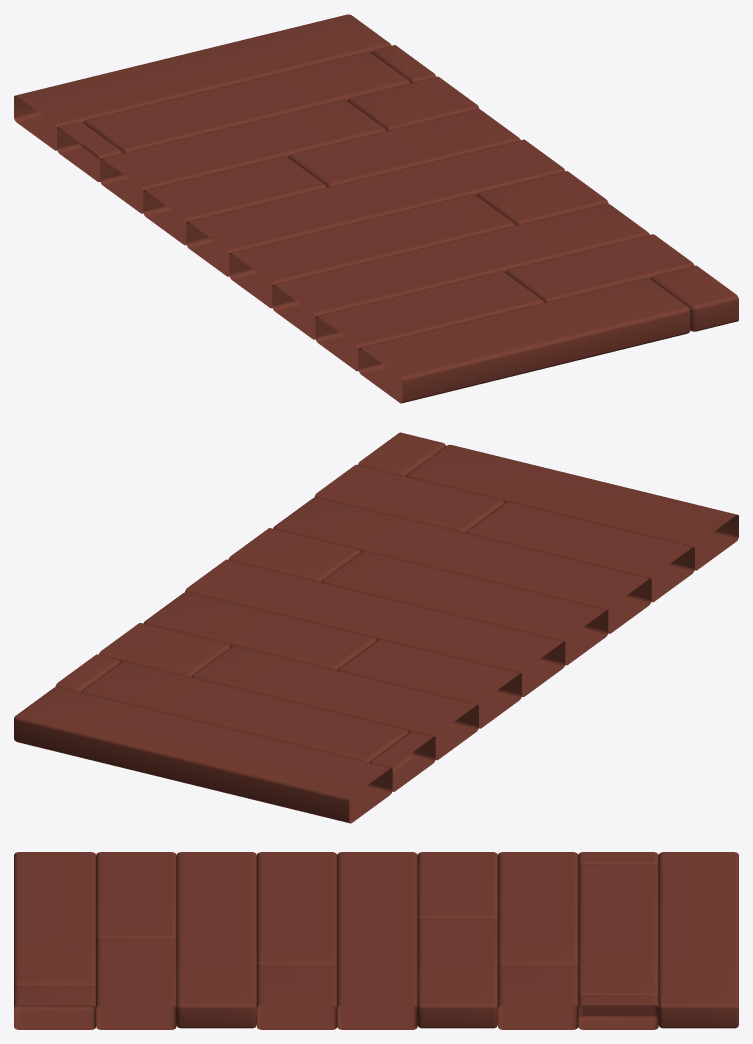
Rendered from SM_Ground_Wood_04.fbx.
3 renders of one model, top to bottom at view 1: azimuth 30°, elevation 25°; view 2: azimuth 150°, elevation 25°; view 3: azimuth 270°, elevation 25°, orthographic. The views are drawn at different scales.
Visible parts, largest first — view 1: Plane.020; view 2: Plane.020; view 3: Plane.020.
Part boxes in pixels (x1,y1,x2,y2): Plane.020: [14, 14, 738, 403]; Plane.020: [14, 432, 738, 823]; Plane.020: [14, 852, 738, 1029].
Size of the model in its own units: 200 by 15 by 400.
